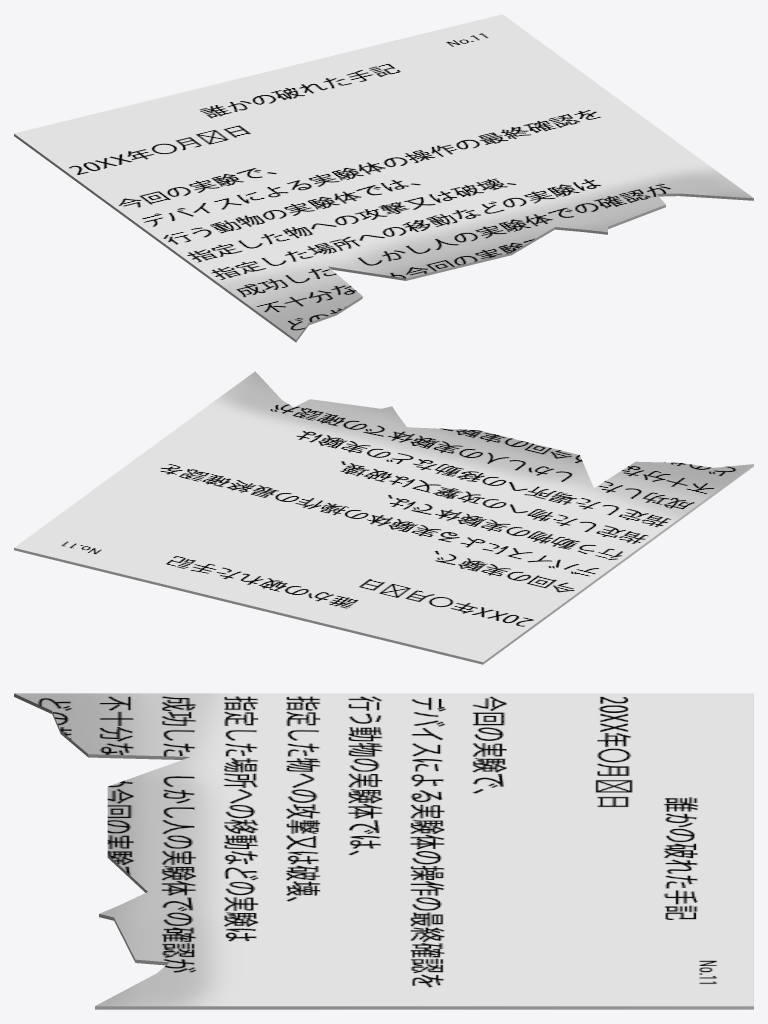
File: rips-Paper1.fbx
3 renders of one model, top to bottom at view 1: azimuth 30°, elevation 25°; view 2: azimuth 150°, elevation 25°; view 3: azimuth 270°, elevation 25°, orthographic. The views are drawn at different scales.
Parts seen in each view (by area): view 1: rips-Paper; view 2: rips-Paper; view 3: rips-Paper.
Part boxes in pixels (x1,y1,x2,y2): rips-Paper: [14, 14, 753, 342]; rips-Paper: [14, 371, 753, 664]; rips-Paper: [14, 693, 753, 1009].
Bounding box in the file's own units: 0.2 × 0.001 × 0.2.
